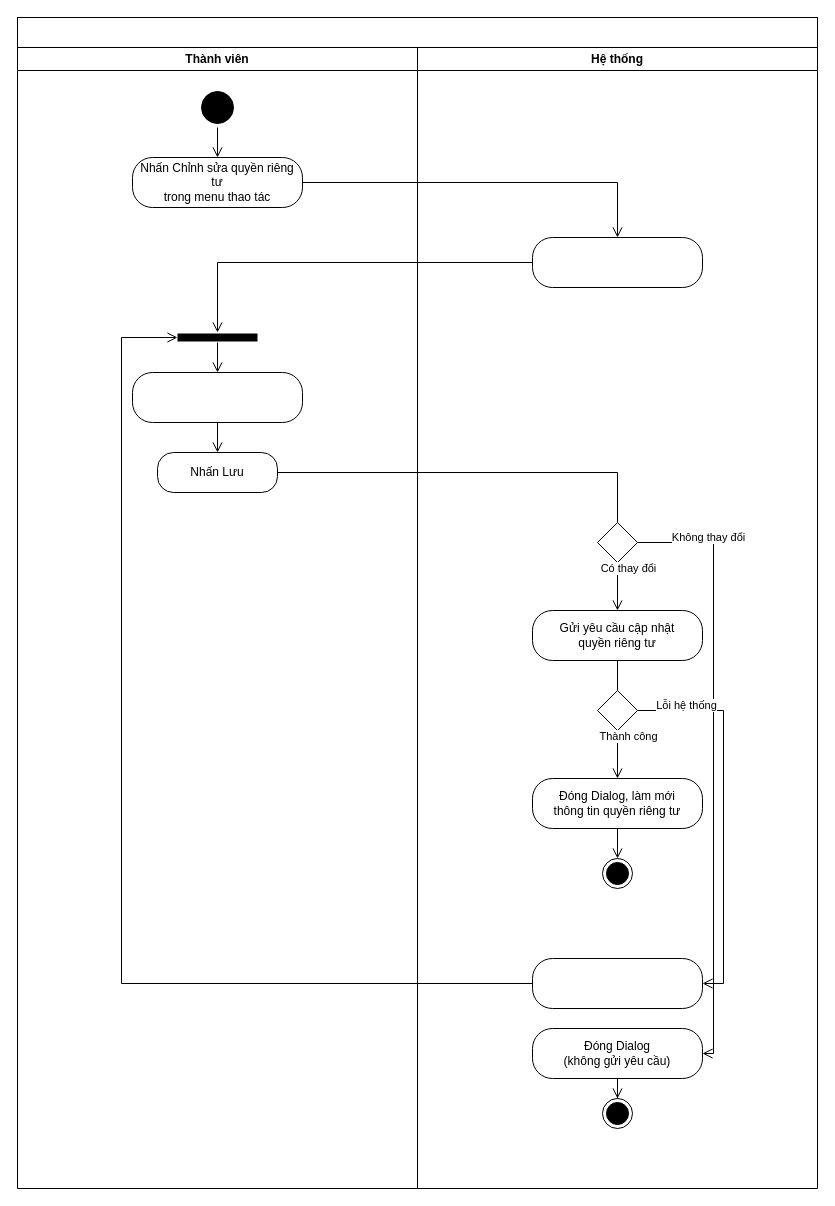
Some shapes in this 835 by 1206 pixel diagram are drawn without their labels. The shapes that lost their labels are listed below. From the top down, each one's centre as x and y in pixels, then its label:
At [417,32]: "CHỈNH SỬA QUYỀN RIÊNG TƯ BLOG".
At [617,262]: "Mở Dialog Quyền riêng tư (chọn sẵn tuỳ chọn hiện tại)".
At [217,397]: "Chọn tuỳ chọn: Công khai/ Thành viên CLB/Chỉ mình tôi".
At [617,983]: "Hiển thị toast lỗi: Không thể cập nhật quyền riêng tư".
